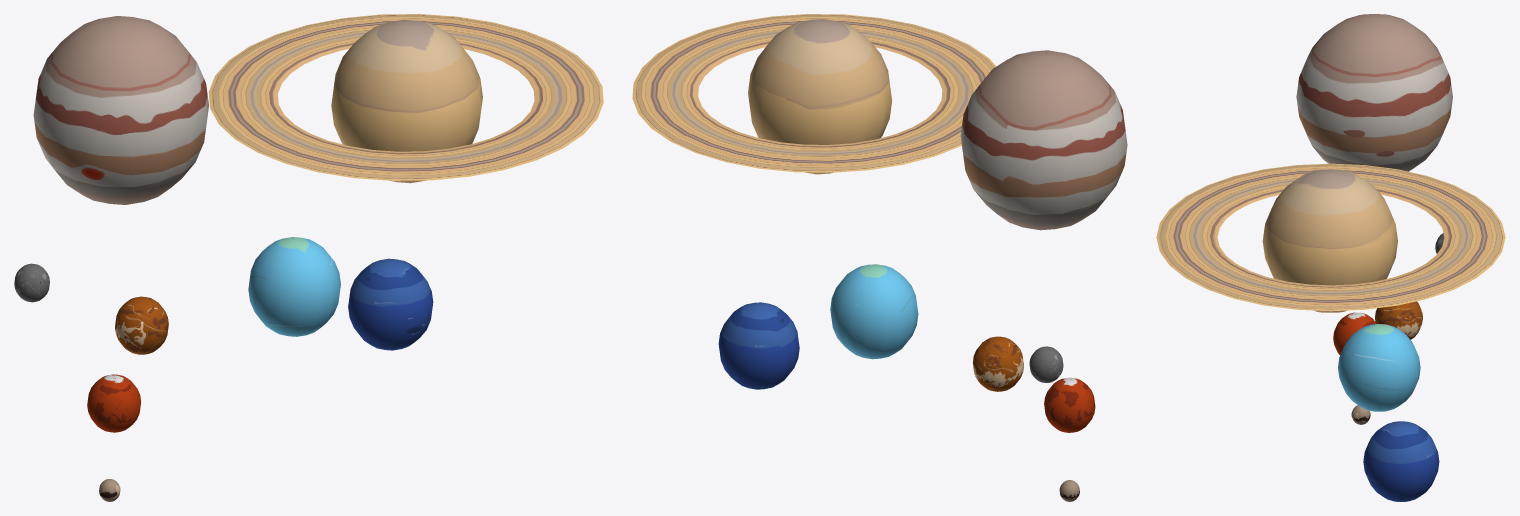
Rendered from Planets.fbx.
3 renders of one model, left to right at view 1: azimuth 30°, elevation 25°; view 2: azimuth 150°, elevation 25°; view 3: azimuth 270°, elevation 25°, orthographic. The views are drawn at different scales.
Parts seen in each view (by area): view 1: Saturn.000, Jupiter, Uranus, Neptune, Mars, Venus, Mercury; view 2: Saturn.000, Jupiter, Uranus, Neptune, Venus, Mars, Mercury; view 3: Saturn.000, Jupiter, Uranus, Neptune, Venus, Mars.
Boxes of the visible parts, x1,y1,x2,y2 form: Saturn.000: [208, 14, 603, 183]; Jupiter: [33, 16, 208, 204]; Uranus: [248, 237, 340, 336]; Neptune: [348, 258, 433, 350]; Mars: [87, 374, 140, 432]; Venus: [115, 296, 168, 354]; Mercury: [14, 263, 49, 302]; Saturn.000: [632, 14, 996, 174]; Jupiter: [960, 50, 1127, 230]; Uranus: [830, 264, 918, 359]; Neptune: [718, 302, 799, 389]; Venus: [972, 336, 1023, 391]; Mars: [1044, 377, 1095, 432]; Mercury: [1029, 346, 1063, 382]; Saturn.000: [1156, 163, 1505, 312]; Jupiter: [1296, 14, 1452, 171]; Uranus: [1338, 324, 1420, 411]; Neptune: [1363, 421, 1439, 501]; Venus: [1375, 301, 1422, 339]; Mars: [1333, 312, 1375, 354].
Bounding box in the file's own units: 172 × 151 × 116.
